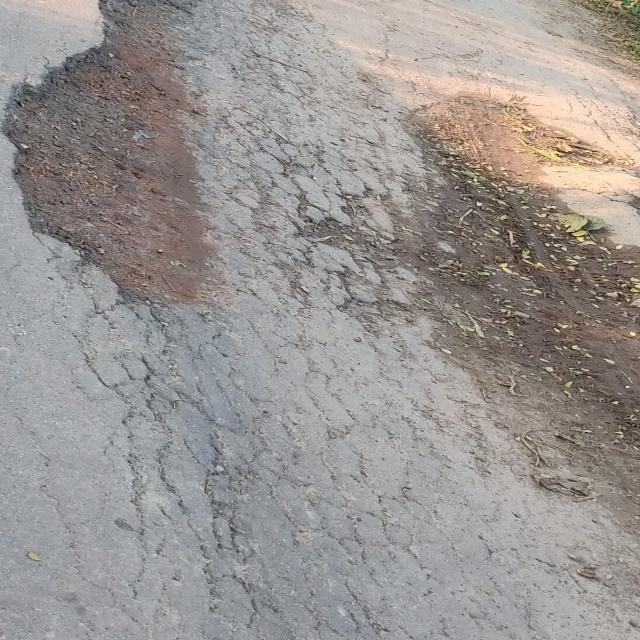Crack: (91, 301, 388, 633), (166, 0, 380, 282)
Surface Erosion: (0, 0, 640, 640)
